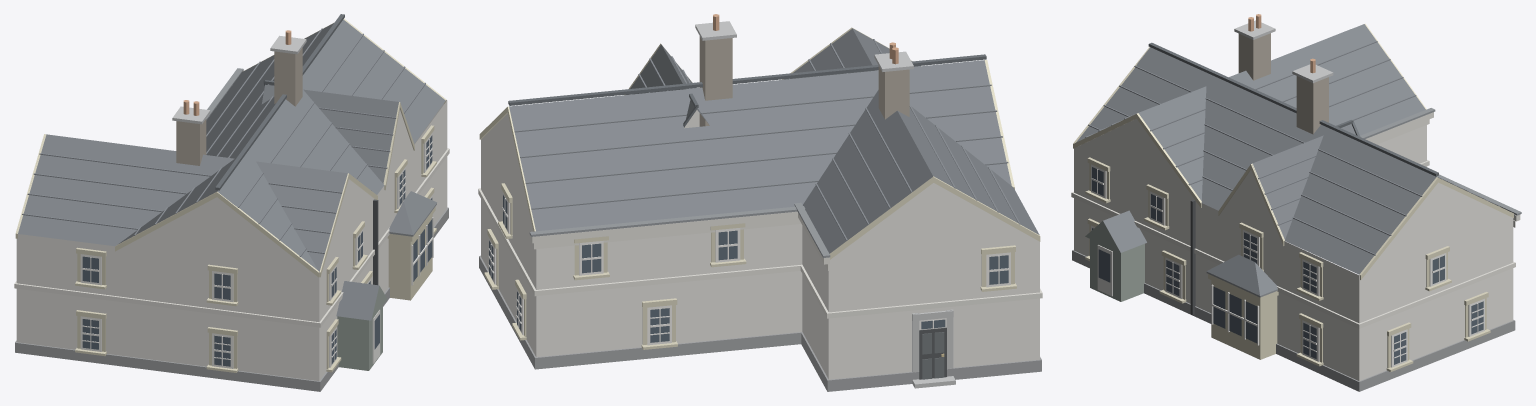
3 views of the same model, side by side, from view 1: azimuth 30°, elevation 25°; view 2: azimuth 150°, elevation 25°; view 3: azimuth 270°, elevation 25° (orthographic). The views are drawn at different scales.
Visible parts, largest first — view 1: slate, harl, dress_buff, slate_lt, plinth, frame, chim_stone, string, timber_sage, slate_dk, stone_band, pipe (+5 smaller); view 2: slate, harl, string, dress_buff, plinth, slate_lt, chim_stone, frame, stone_band, slate_dk, lead, door_dark_p (+5 smaller); view 3: slate, harl, dress_buff, frame, plinth, slate_lt, string, chim_stone, timber_sage, slate_dk, lead, stone_band (+6 smaller).
Part boxes in pixels (box(x1,y1,x2,y2)): slate: box(18, 19, 445, 320); harl: box(16, 100, 447, 381); dress_buff: box(15, 18, 446, 372); slate_lt: box(22, 28, 425, 256); plinth: box(15, 207, 448, 391); frame: box(80, 133, 433, 368); chim_stone: box(176, 48, 302, 165); string: box(14, 148, 449, 327); timber_sage: box(337, 286, 387, 370); slate_dk: box(215, 14, 344, 190); stone_band: box(172, 35, 306, 124); pipe: box(373, 199, 378, 285); slate: box(509, 28, 1039, 253); harl: box(481, 110, 1039, 379); string: box(478, 188, 1042, 318); dress_buff: box(479, 27, 1040, 349); plinth: box(479, 255, 1041, 391); slate_lt: box(514, 39, 1020, 240); chim_stone: box(699, 36, 909, 126); frame: box(488, 192, 1010, 345); stone_band: box(695, 21, 955, 388); slate_dk: box(508, 54, 986, 126); lead: box(529, 202, 830, 257); door_dark_p: box(922, 332, 944, 379); slate: box(1076, 24, 1436, 295); harl: box(1074, 118, 1513, 381); dress_buff: box(1073, 23, 1513, 371); frame: box(1091, 164, 1484, 367); plinth: box(1072, 250, 1515, 391); slate_lt: box(1085, 29, 1499, 255); string: box(1071, 112, 1520, 328); chim_stone: box(1238, 33, 1328, 134); timber_sage: box(1085, 221, 1144, 301); slate_dk: box(1148, 42, 1438, 176); lead: box(1206, 108, 1521, 297); stone_band: box(1234, 20, 1333, 82).
Bounding box in the file's own units: 21.89 × 11.17 × 18.71.
